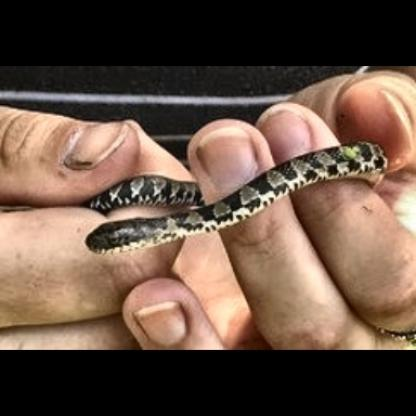Snake: (79, 134, 406, 262)
